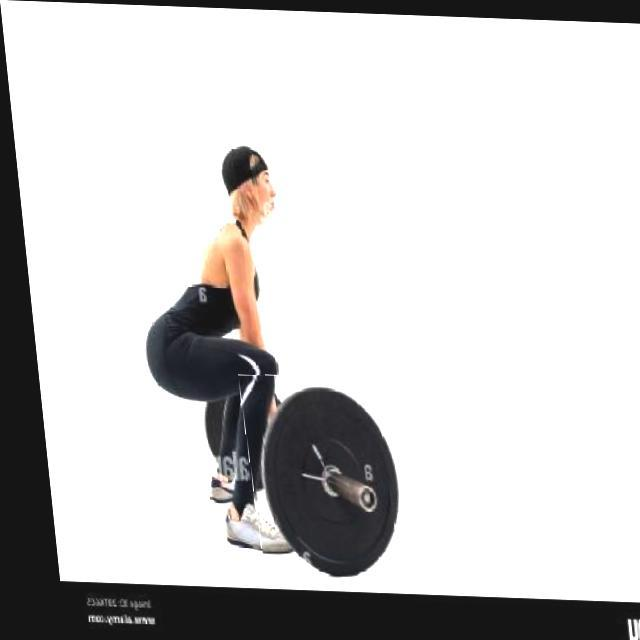barbell: (232, 370, 419, 585)
